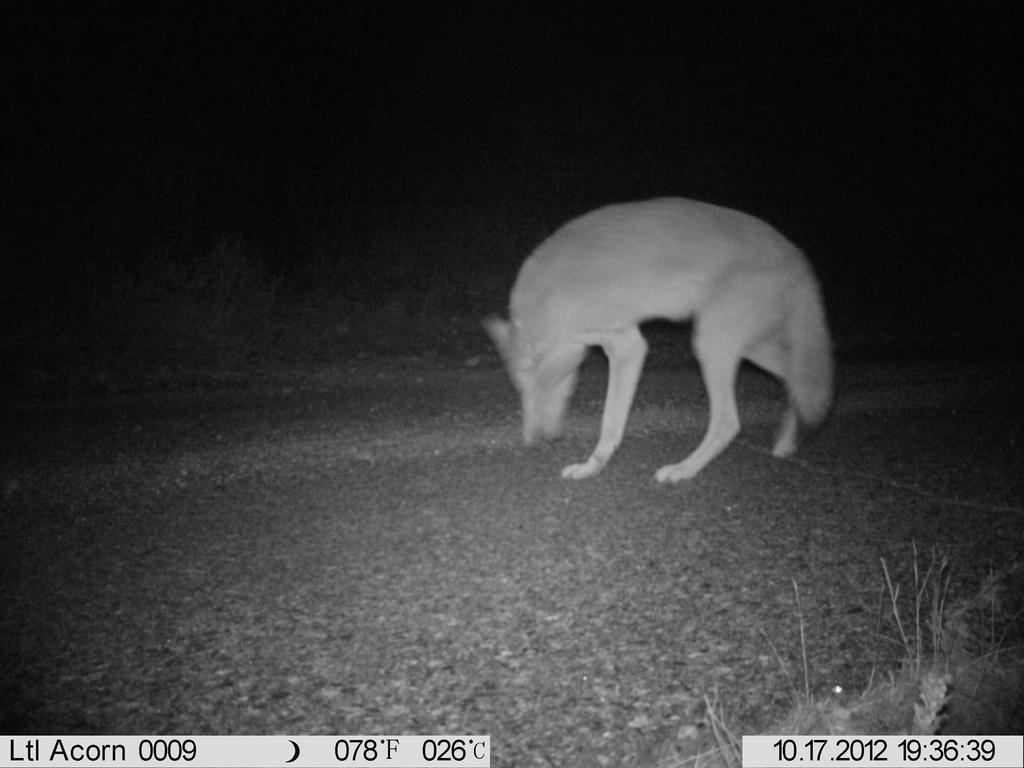coyote: (465, 183, 843, 495)
